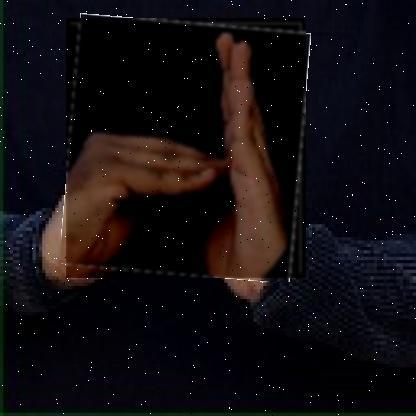Z: (65, 18, 306, 279)
